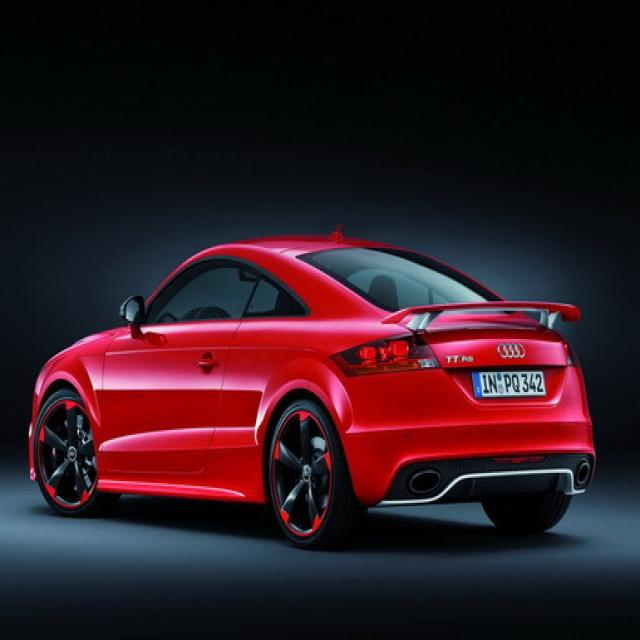car: (22, 223, 600, 554)
